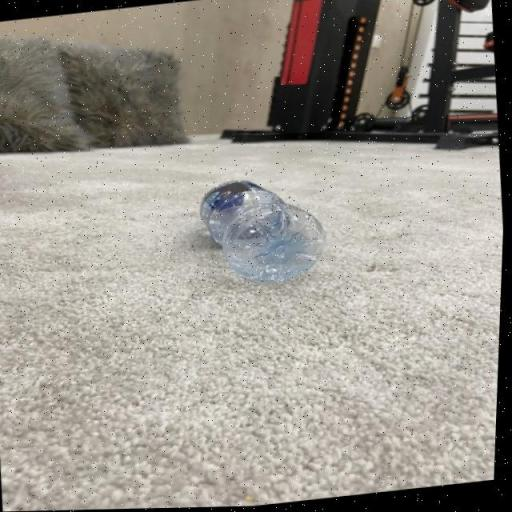plastic: (193, 168, 337, 296)
